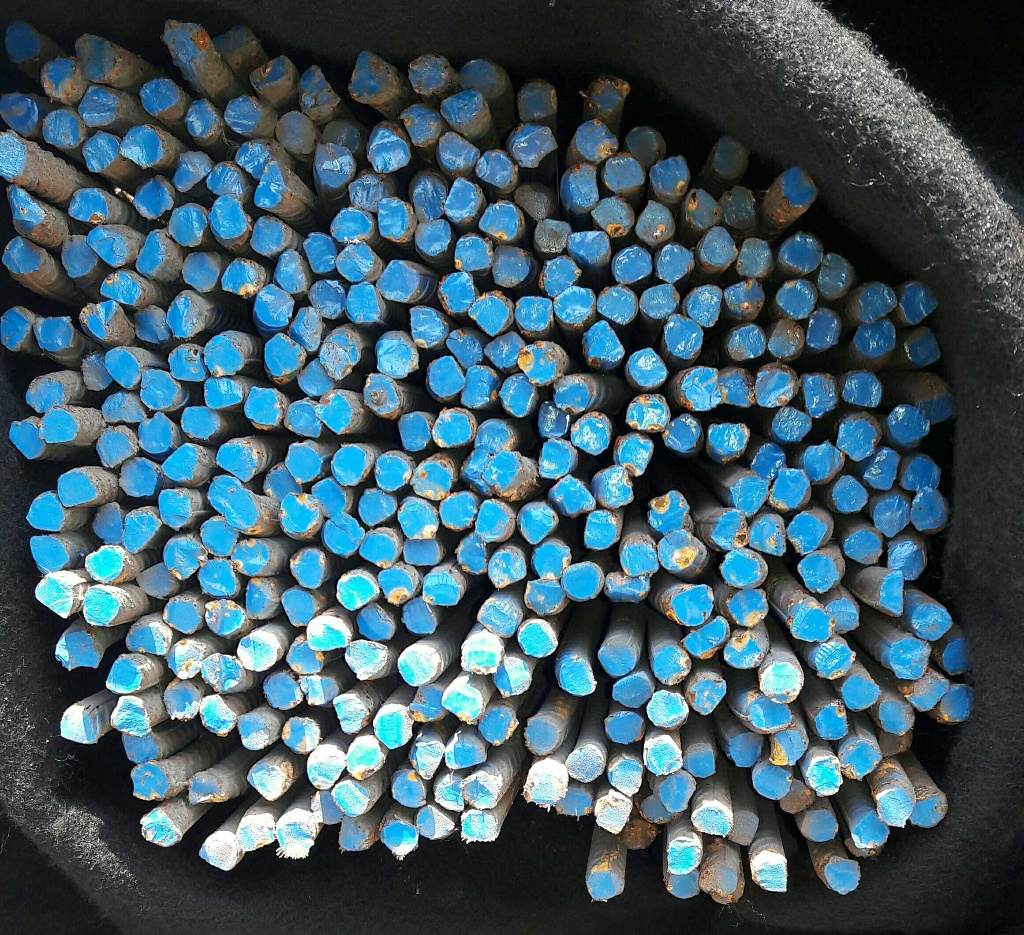dipstick: (136, 230, 183, 282), (349, 52, 395, 102), (6, 186, 49, 238), (487, 452, 531, 499), (682, 616, 730, 659), (375, 330, 418, 377), (755, 361, 799, 406), (376, 259, 421, 302), (279, 492, 323, 535), (457, 60, 506, 98), (368, 128, 410, 172), (647, 490, 691, 532), (319, 335, 360, 380), (76, 34, 116, 80), (79, 300, 123, 341), (527, 762, 568, 806), (585, 75, 630, 115), (167, 293, 206, 339), (721, 550, 768, 588), (121, 126, 163, 168), (275, 111, 317, 153), (889, 405, 931, 447), (350, 172, 393, 213), (516, 125, 557, 168), (664, 314, 703, 359), (550, 475, 596, 513), (576, 120, 618, 161), (856, 280, 898, 321), (802, 442, 844, 483), (345, 640, 388, 680), (468, 295, 511, 335), (316, 143, 356, 186), (591, 197, 634, 237), (914, 378, 954, 421), (378, 198, 417, 242), (636, 200, 675, 244), (570, 411, 609, 455), (759, 663, 803, 702), (308, 746, 346, 791), (712, 136, 750, 181), (626, 395, 671, 433), (673, 585, 714, 626), (41, 57, 81, 99), (204, 599, 247, 638), (323, 513, 362, 556), (399, 497, 438, 540), (701, 865, 744, 904), (836, 418, 875, 461), (771, 469, 810, 512), (256, 283, 294, 327), (501, 373, 539, 417), (163, 24, 209, 60), (164, 539, 205, 579), (199, 515, 239, 556), (592, 467, 632, 508), (374, 707, 413, 749), (493, 655, 532, 697), (492, 245, 531, 287), (516, 181, 558, 220), (562, 562, 604, 601), (891, 637, 930, 679), (60, 235, 98, 278), (405, 103, 443, 146), (683, 367, 721, 410), (853, 319, 897, 356), (440, 91, 486, 126), (111, 695, 151, 735), (730, 475, 770, 515), (97, 426, 136, 467), (409, 54, 450, 93), (439, 133, 478, 174), (516, 81, 557, 120), (604, 153, 645, 192), (658, 531, 697, 572), (710, 509, 749, 550), (798, 554, 839, 593), (265, 332, 303, 374), (520, 341, 558, 383), (520, 502, 558, 544), (662, 415, 704, 453), (646, 691, 688, 729), (901, 282, 939, 324), (210, 195, 247, 238), (247, 763, 290, 800), (720, 187, 757, 230), (55, 632, 99, 668), (410, 174, 446, 218), (564, 163, 597, 211), (524, 578, 569, 613), (749, 697, 794, 732), (79, 87, 119, 126), (172, 152, 212, 191), (139, 370, 179, 409), (202, 653, 242, 692), (443, 685, 483, 724), (476, 500, 515, 540), (36, 577, 74, 618), (331, 779, 372, 817), (336, 243, 377, 281), (649, 155, 690, 193), (724, 279, 765, 317), (708, 421, 749, 459), (659, 772, 697, 813), (786, 514, 827, 552), (840, 740, 881, 778), (363, 374, 400, 416), (749, 514, 786, 556), (127, 620, 170, 656), (818, 253, 854, 296), (216, 27, 260, 62), (317, 392, 352, 436), (348, 735, 383, 779), (244, 387, 283, 426), (477, 149, 516, 188), (263, 671, 303, 709), (487, 549, 527, 587), (586, 321, 624, 361), (644, 735, 684, 773), (719, 367, 757, 407), (783, 232, 823, 270), (1, 93, 38, 134), (169, 206, 206, 247), (360, 528, 397, 569), (409, 307, 446, 348), (336, 574, 378, 610), (911, 487, 947, 529), (1, 307, 36, 350), (3, 24, 42, 62), (135, 178, 173, 217), (204, 336, 242, 375), (298, 357, 336, 396), (198, 559, 237, 597), (198, 695, 236, 734), (627, 126, 665, 165), (553, 374, 592, 412), (887, 542, 926, 580), (753, 762, 792, 800), (83, 132, 120, 172), (134, 304, 171, 344), (409, 682, 446, 722), (478, 708, 518, 745), (543, 256, 580, 296), (124, 511, 160, 552), (397, 648, 438, 684), (462, 638, 503, 674), (617, 434, 653, 475), (775, 281, 816, 317), (912, 604, 953, 640), (444, 733, 486, 768), (301, 64, 335, 107), (60, 706, 98, 744), (686, 189, 724, 227), (87, 229, 126, 266), (30, 535, 69, 572), (231, 539, 270, 576), (281, 716, 320, 753), (357, 602, 394, 641), (657, 243, 694, 282), (654, 646, 691, 685), (222, 260, 262, 296), (137, 413, 173, 453), (290, 548, 326, 588), (323, 121, 363, 157), (597, 287, 637, 323), (904, 325, 940, 365), (806, 756, 842, 796), (909, 676, 949, 712), (42, 111, 83, 146), (428, 355, 463, 396), (802, 376, 837, 417), (864, 449, 899, 490), (792, 607, 833, 642), (463, 366, 497, 408), (445, 178, 479, 220), (687, 285, 721, 327), (275, 249, 308, 292), (136, 562, 179, 595), (331, 209, 374, 242), (484, 333, 527, 366), (532, 541, 570, 578), (559, 657, 596, 695), (593, 795, 630, 833), (629, 348, 667, 385), (780, 168, 818, 205), (768, 318, 805, 356), (4, 238, 43, 274), (182, 253, 218, 292), (9, 420, 45, 459), (120, 458, 156, 497), (163, 598, 202, 634), (163, 681, 199, 720), (238, 713, 277, 749), (286, 444, 322, 483), (358, 490, 397, 526), (479, 600, 515, 639), (480, 204, 519, 240), (613, 248, 652, 284), (843, 372, 882, 408), (873, 497, 909, 536), (140, 79, 180, 114), (26, 376, 66, 411), (245, 579, 280, 619), (238, 635, 278, 670), (555, 288, 595, 323), (567, 231, 612, 262), (224, 488, 258, 529), (307, 617, 349, 650), (308, 280, 345, 317), (701, 227, 738, 264), (816, 642, 853, 679), (768, 727, 805, 764), (225, 96, 261, 134), (130, 763, 168, 799), (597, 640, 635, 676), (807, 308, 843, 346), (433, 412, 472, 447), (346, 283, 381, 322), (440, 273, 475, 312), (255, 163, 286, 207), (263, 469, 303, 503), (639, 284, 679, 318), (540, 438, 574, 478), (728, 590, 768, 624), (217, 443, 253, 480), (83, 588, 119, 625), (833, 475, 869, 512), (168, 345, 206, 380), (105, 349, 140, 387), (27, 495, 65, 530), (519, 619, 554, 657), (447, 328, 482, 366), (566, 746, 604, 781), (751, 444, 786, 482), (825, 856, 860, 894), (251, 56, 290, 90), (69, 189, 108, 223), (35, 316, 74, 350), (199, 836, 238, 870), (331, 446, 365, 485), (693, 802, 732, 836), (724, 634, 763, 668), (738, 238, 772, 277), (815, 701, 849, 740), (584, 510, 617, 550), (456, 533, 487, 575), (236, 143, 272, 179), (106, 657, 142, 693), (441, 493, 477, 529), (463, 772, 499, 808), (278, 822, 313, 859), (413, 464, 450, 499), (524, 718, 559, 755), (752, 856, 787, 893), (852, 811, 889, 846), (878, 790, 913, 827), (86, 548, 124, 582), (142, 812, 180, 846), (516, 296, 554, 330), (773, 408, 811, 442), (101, 273, 140, 306), (158, 490, 191, 529), (334, 695, 367, 734), (611, 674, 650, 707), (609, 759, 642, 798), (902, 457, 941, 490), (843, 529, 882, 562), (909, 795, 948, 828), (206, 164, 246, 196), (102, 393, 146, 422), (286, 402, 321, 438), (161, 444, 197, 479), (208, 477, 242, 514), (417, 806, 454, 840), (392, 770, 426, 807), (842, 676, 879, 710), (57, 473, 95, 506), (376, 454, 409, 492), (620, 541, 658, 574), (460, 809, 499, 841), (476, 420, 515, 452), (537, 398, 569, 437), (606, 572, 649, 601), (305, 233, 336, 273), (92, 503, 123, 543), (293, 307, 321, 351), (185, 101, 219, 137), (201, 520, 237, 554), (168, 642, 202, 678), (310, 788, 344, 824), (403, 597, 437, 633), (415, 220, 451, 254), (729, 325, 765, 359), (312, 480, 345, 517), (455, 237, 492, 270), (941, 684, 974, 721), (780, 780, 818, 812), (181, 407, 220, 438), (238, 820, 277, 851), (604, 712, 643, 743), (250, 218, 284, 253), (340, 816, 374, 851), (535, 220, 570, 254), (691, 678, 725, 713), (880, 701, 916, 734), (282, 589, 314, 626), (286, 640, 323, 672), (120, 731, 157, 763), (300, 675, 339, 705), (398, 412, 428, 451), (81, 355, 115, 389), (825, 599, 859, 633), (383, 821, 418, 854), (729, 732, 762, 767), (423, 573, 459, 605), (668, 836, 699, 873), (663, 868, 700, 899), (684, 743, 716, 778), (189, 772, 225, 803), (412, 742, 443, 778), (205, 378, 243, 407), (879, 572, 904, 616), (41, 410, 76, 441), (801, 811, 837, 841), (586, 869, 623, 898), (557, 787, 595, 815), (1, 135, 26, 177), (728, 810, 758, 845), (404, 538, 441, 566), (624, 820, 657, 850), (943, 639, 964, 674)
